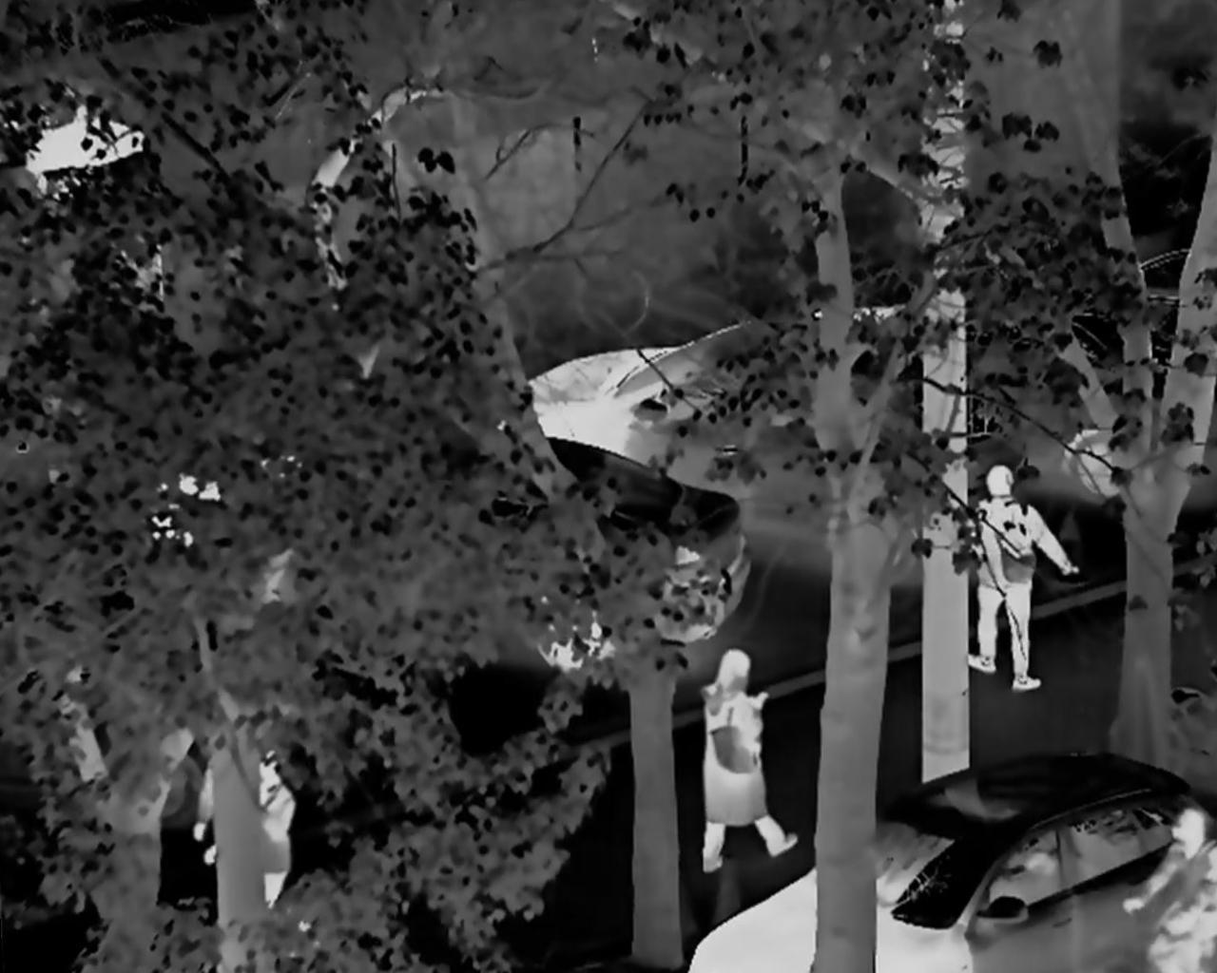person: (964, 462, 1077, 696), (678, 648, 799, 864), (1127, 804, 1217, 973), (218, 742, 292, 921)
